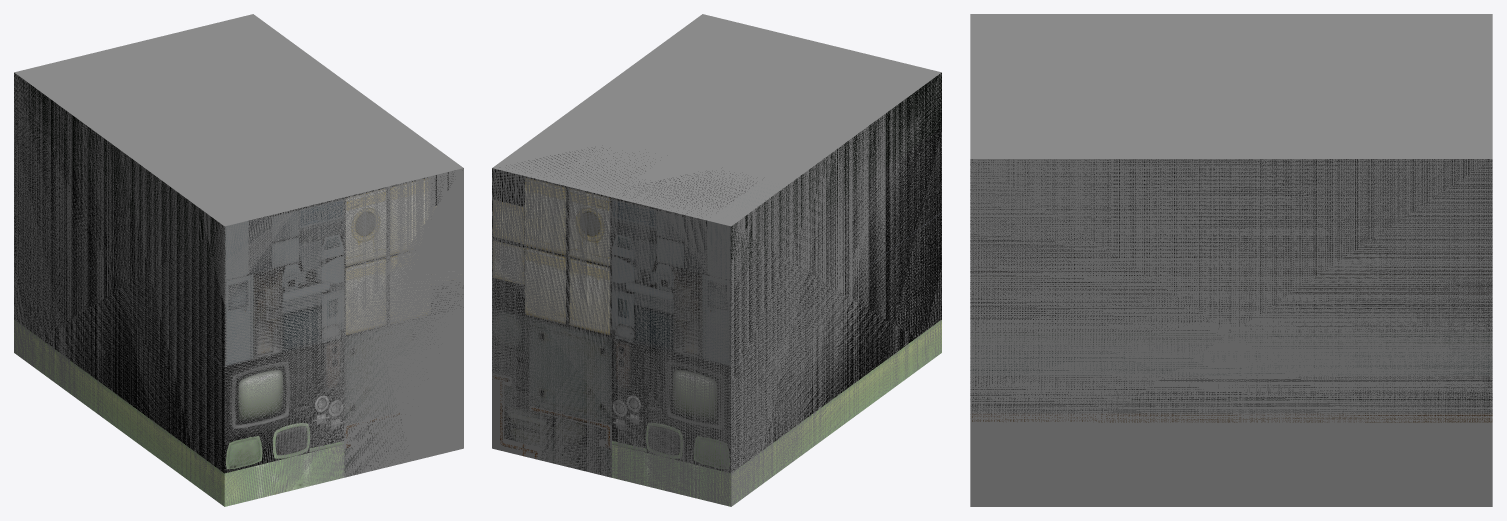
File: television.FBX
The picture shows the model from 3 angles, left to right: view 1: azimuth 30°, elevation 25°; view 2: azimuth 150°, elevation 25°; view 3: azimuth 270°, elevation 25°; orthographic projection. The views are drawn at different scales.
Parts seen in each view (by area): view 1: bounds, colbox-1; view 2: bounds, colbox-1; view 3: bounds, colbox-1.
Part boxes in pixels (x1,y1,x2,y2): bounds: (14,14,463,506); colbox-1: (14,73,454,506); bounds: (492,14,941,506); colbox-1: (492,73,941,506); bounds: (970,14,1492,506); colbox-1: (970,159,1492,422).
Size of the model in its own units: 44.39 by 49.72 by 67.65.
